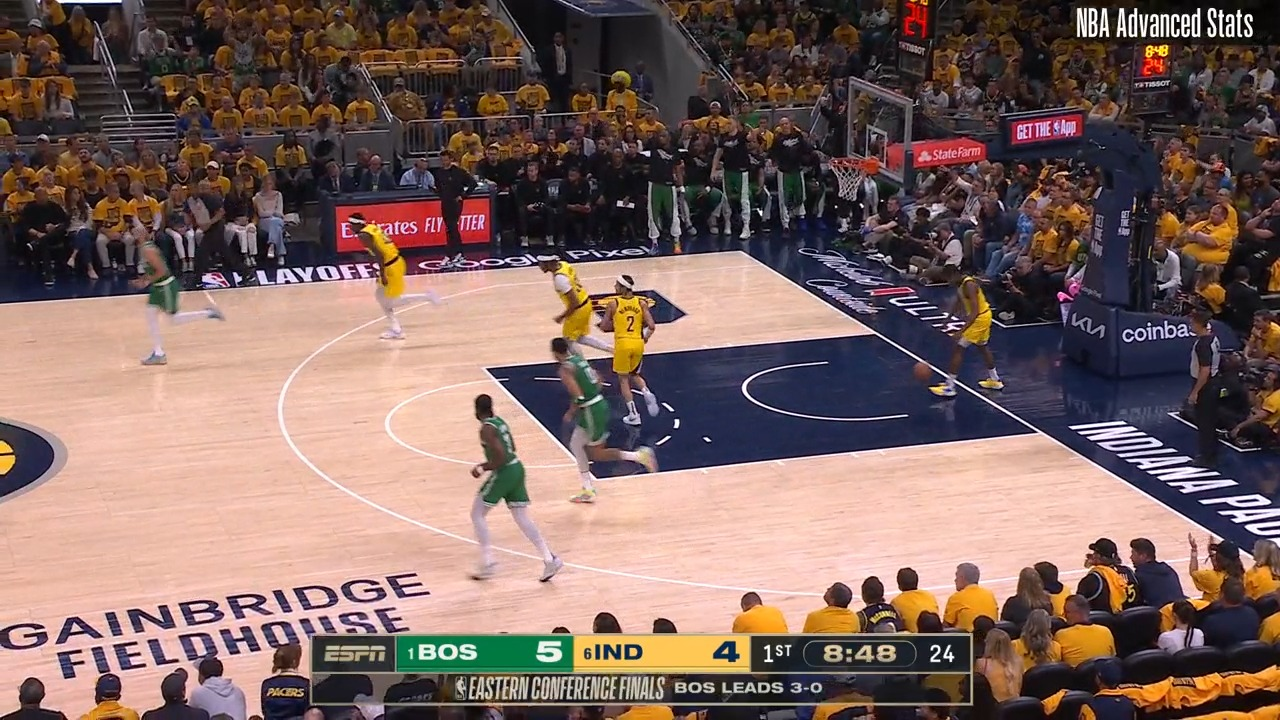basketball: (910, 358, 934, 385)
